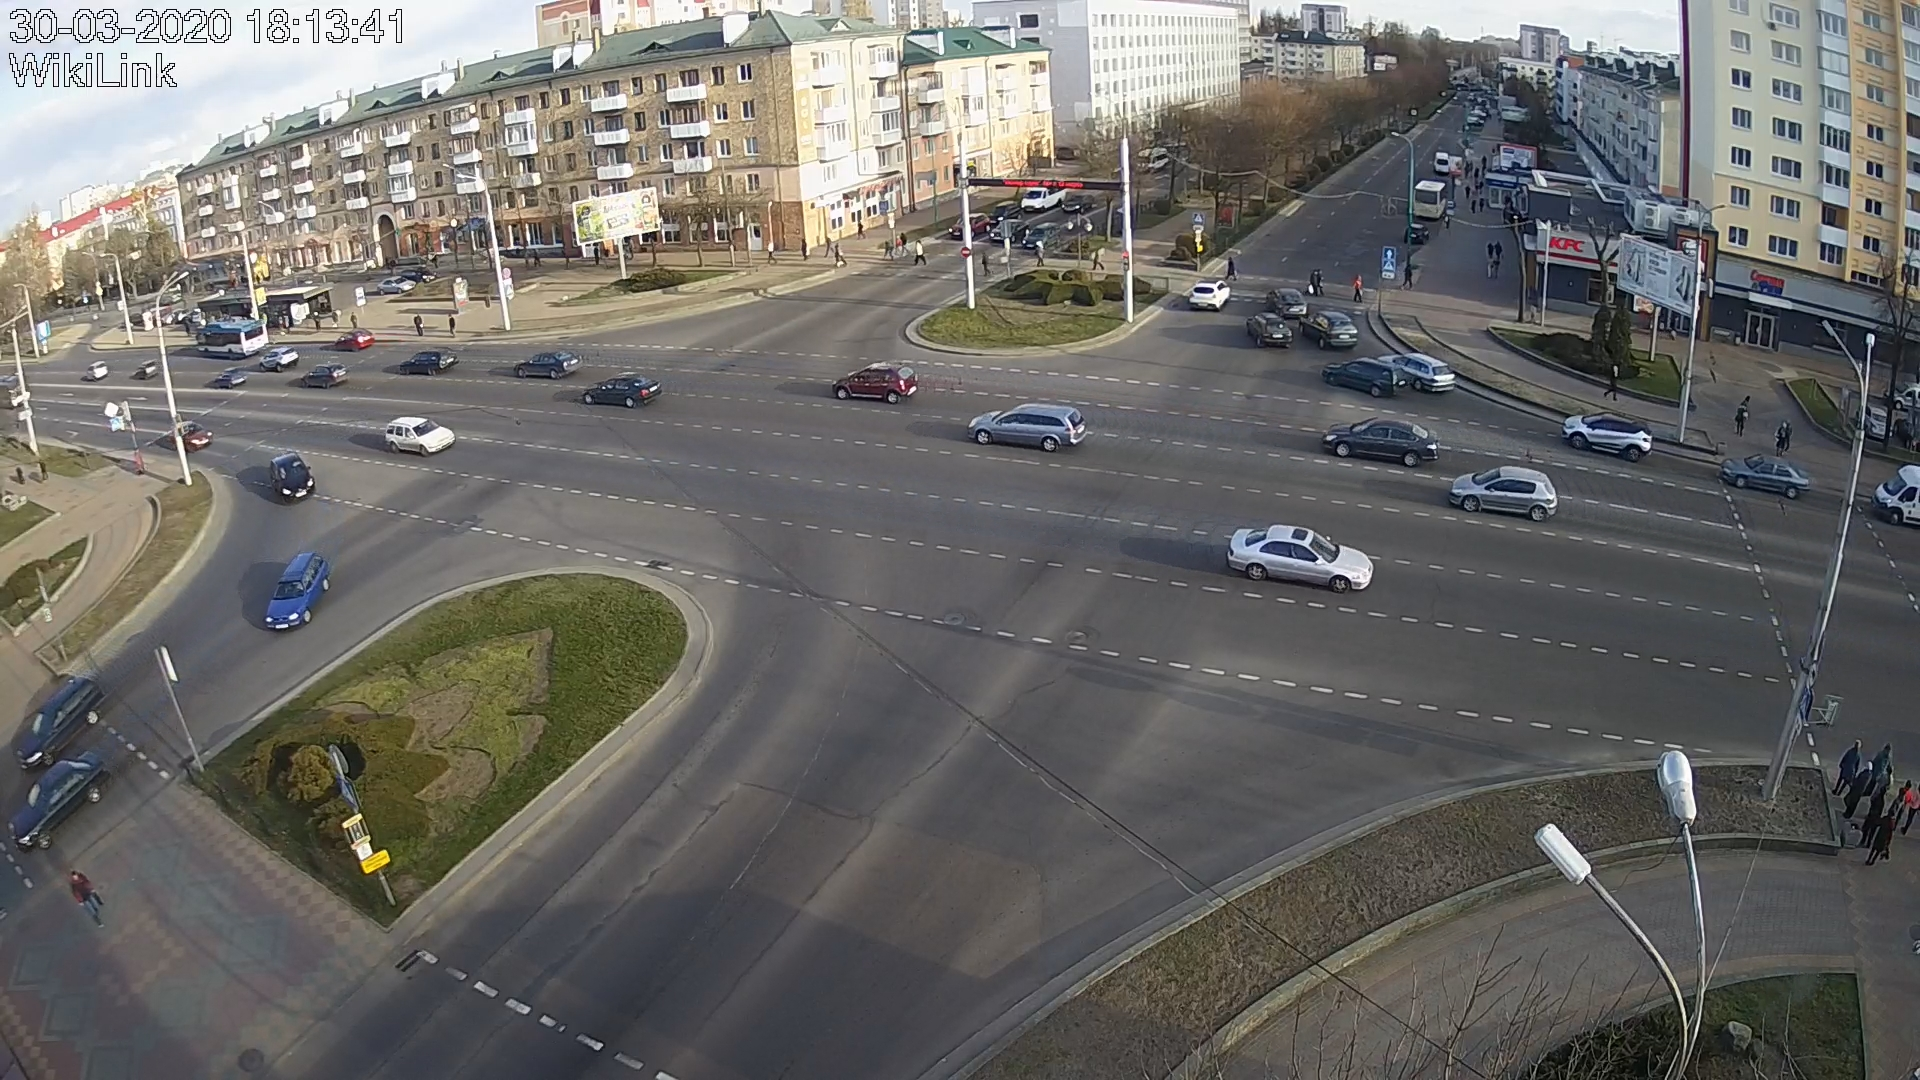bus: (196, 319, 268, 359)
car: (1226, 524, 1374, 593), (8, 752, 109, 853), (15, 674, 104, 771), (1451, 465, 1557, 524), (967, 404, 1087, 454), (1323, 417, 1437, 468), (265, 551, 332, 630), (1561, 411, 1654, 462), (1720, 454, 1811, 500), (832, 359, 919, 405), (1321, 357, 1411, 400), (1378, 353, 1455, 394), (384, 415, 456, 458), (582, 372, 662, 407), (270, 450, 315, 505), (1299, 311, 1358, 349), (513, 348, 584, 380), (400, 347, 459, 375), (1246, 313, 1292, 347), (167, 421, 214, 454), (301, 363, 349, 390), (1188, 280, 1232, 310), (1266, 287, 1307, 316), (949, 211, 989, 240), (1021, 222, 1060, 248), (335, 328, 376, 352), (990, 218, 1031, 241)
